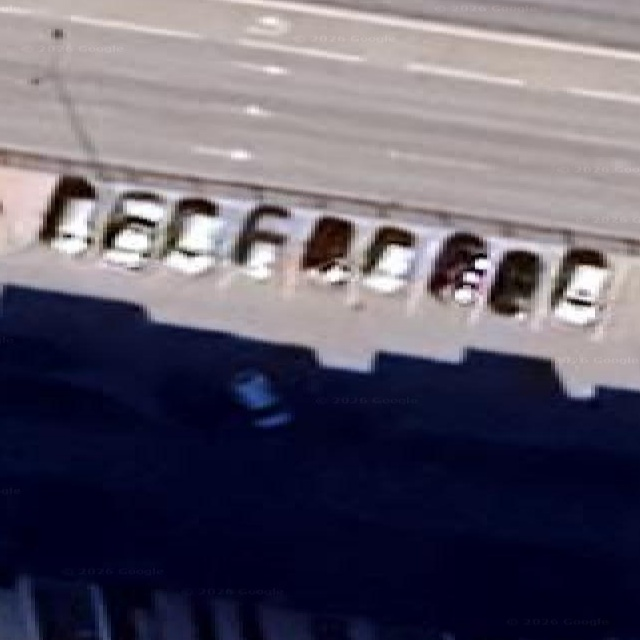car: (103, 197, 165, 269), (165, 211, 223, 274), (231, 369, 291, 427), (554, 264, 610, 326), (51, 198, 95, 255)
